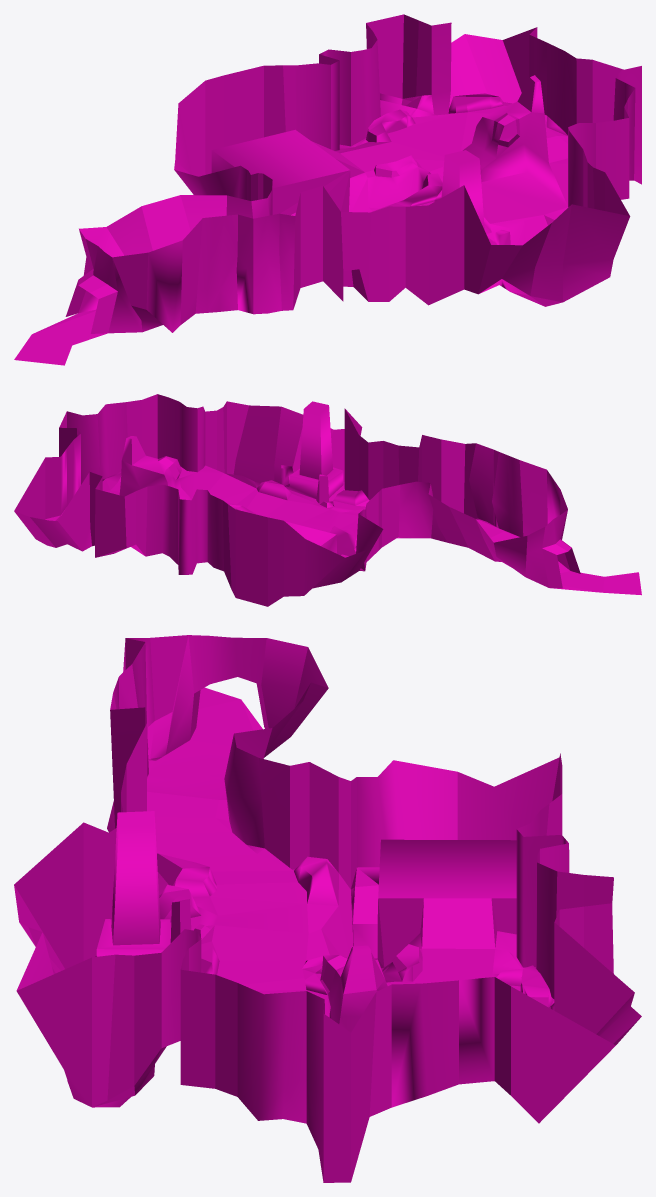
File: Enviro_Level_2_COL.fbx
The picture shows the model from 3 angles, top to bottom: view 1: azimuth 30°, elevation 25°; view 2: azimuth 150°, elevation 25°; view 3: azimuth 270°, elevation 25°; orthographic projection. The views are drawn at different scales.
Parts seen in each view (by area): view 1: Level02_Colision1; view 2: Level02_Colision1; view 3: Level02_Colision1.
Part boxes in pixels (x1=…): Level02_Colision1: x1=14, y1=14, x2=641, y2=365; Level02_Colision1: x1=14, y1=394, x2=641, y2=606; Level02_Colision1: x1=14, y1=635, x2=641, y2=1182.
Size of the model in its own units: 51.15 by 12.07 by 29.03.
